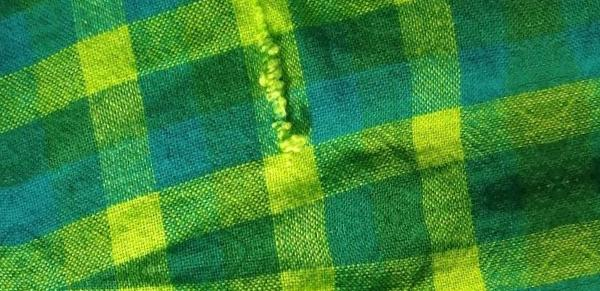knot: (254, 12, 309, 155)
